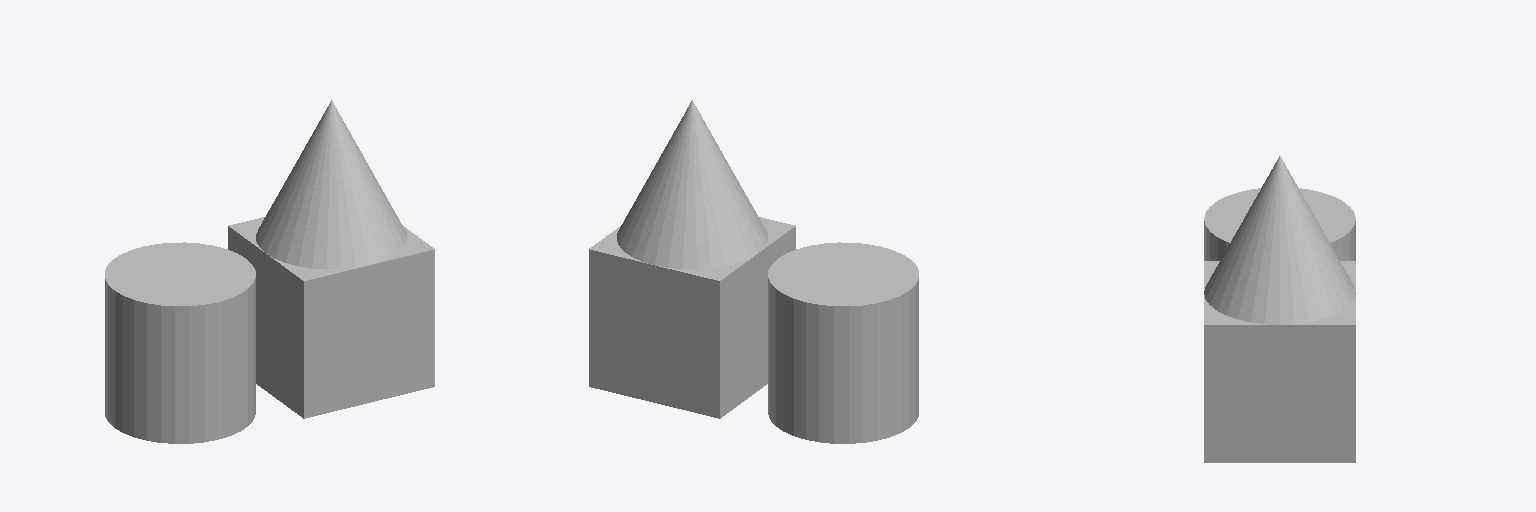
Rendered from shapesobj.obj.
3 views of the same model, side by side, from view 1: azimuth 30°, elevation 25°; view 2: azimuth 150°, elevation 25°; view 3: azimuth 270°, elevation 25° (orthographic).
Parts seen in each view (by area): view 1: Cylinder, Cube, Cone; view 2: Cylinder, Cube, Cone; view 3: Cube, Cone, Cylinder.
Boxes of the visible parts, x1=… form: Cylinder: x1=105, y1=242, x2=255, y2=443; Cube: x1=228, y1=217, x2=434, y2=418; Cone: x1=256, y1=100, x2=406, y2=269; Cylinder: x1=768, y1=242, x2=918, y2=443; Cube: x1=589, y1=217, x2=795, y2=418; Cone: x1=617, y1=100, x2=767, y2=269; Cube: x1=1204, y1=261, x2=1355, y2=462; Cone: x1=1204, y1=156, x2=1355, y2=324; Cylinder: x1=1204, y1=188, x2=1355, y2=260.
Size of the model in its own units: 4.3 by 4 by 2.